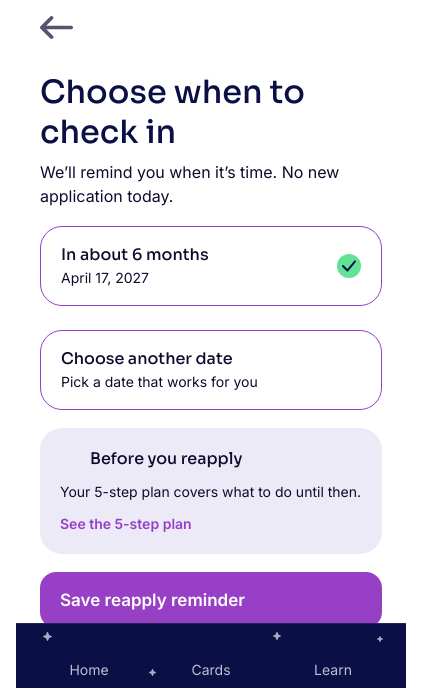
Test case: ReminderSetup › says the API's message for a day it refuses (400) and stays on this screen
Click the button "Save reapply reminder". click: (211, 600)
box: [40,572,382,628]
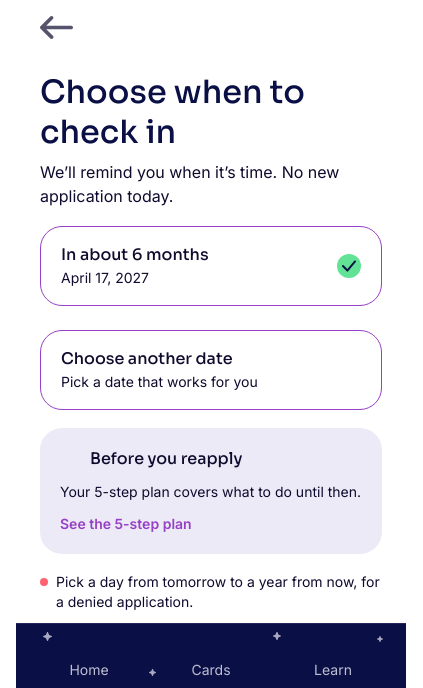
Now the message reads "Pick a day from tomorrow to a year from now, for a denied application.", box [56,573,380,610]
